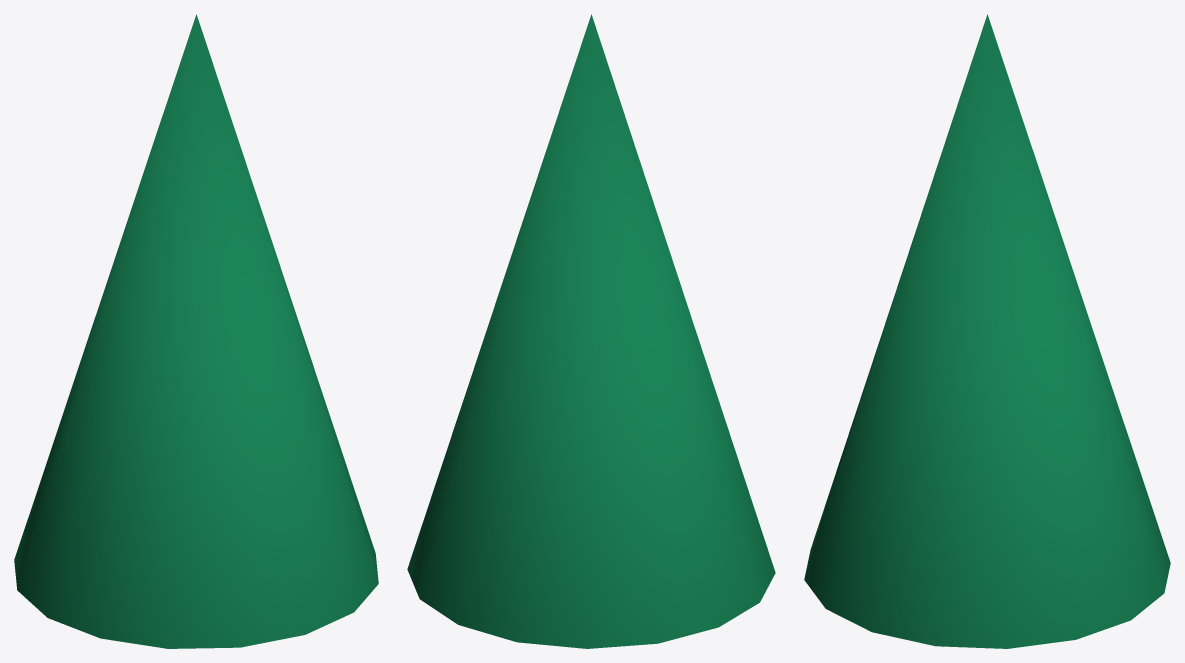
The model's file is pine01_s02.FBX.
3 views of the same model, side by side, from view 1: azimuth 30°, elevation 25°; view 2: azimuth 150°, elevation 25°; view 3: azimuth 270°, elevation 25° (orthographic).
Parts seen in each view (by area): view 1: pine01_s02; view 2: pine01_s02; view 3: pine01_s02.
Boxes of the visible parts, box(x1,y1,x2,y2) form: pine01_s02: box(14, 14, 378, 648); pine01_s02: box(407, 14, 775, 648); pine01_s02: box(804, 14, 1170, 648).
Bounding box in the file's own units: 206 × 206 × 347.
Materials: 1 (1 with a texture image).
